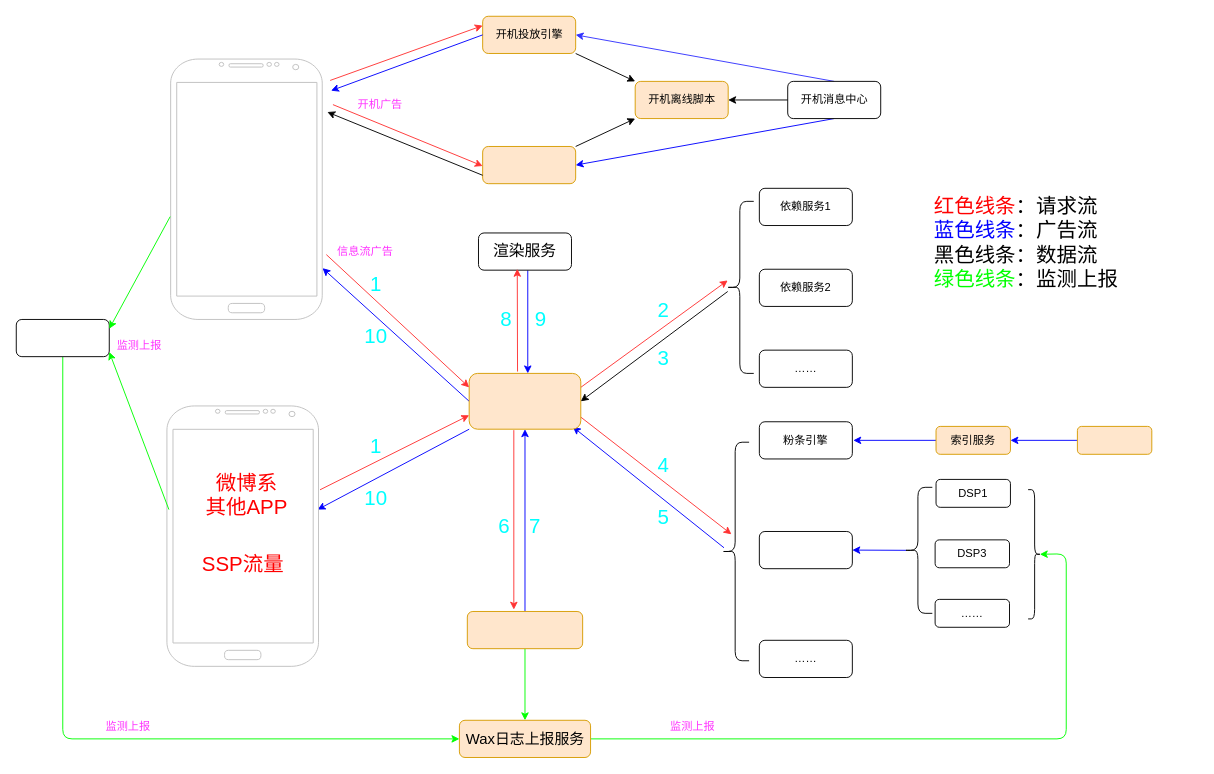
The diagram is 1214 pixels wide and 774 high, and some of its shapes have lost their labels. Each missing label, with the centre of its shape:
"darwin竞价服务" goes at point 524,630.
"Wax 引擎" goes at point 805,550.
"后链路" goes at point 62,338.
"图灵服务" goes at point 1114,439.
"广告交易引擎" goes at point 524,400.
"开机策略引擎" goes at point 529,165.
"微博APP" goes at point 246,188.
